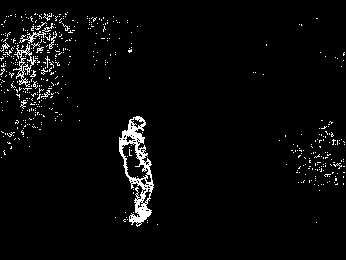person: (119, 116, 154, 227)
